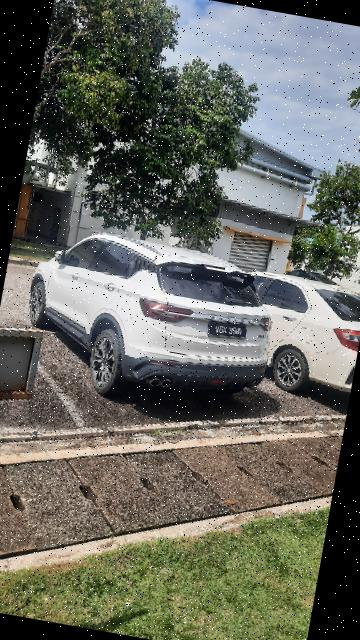License_Plate: (207, 318, 251, 346)
car: (9, 223, 287, 426), (219, 260, 360, 401)
